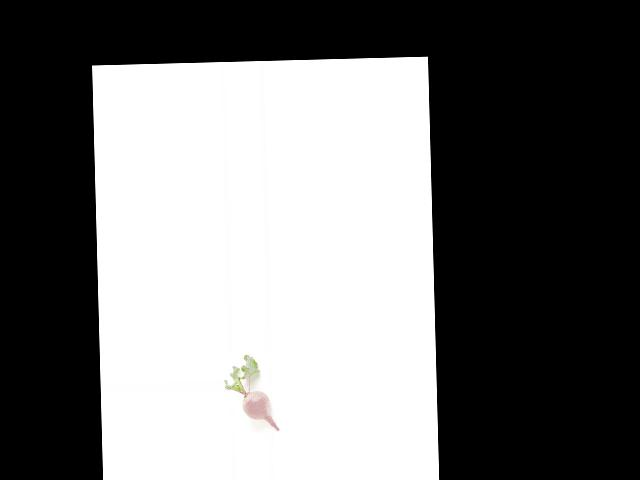beet: (223, 353, 279, 431)
